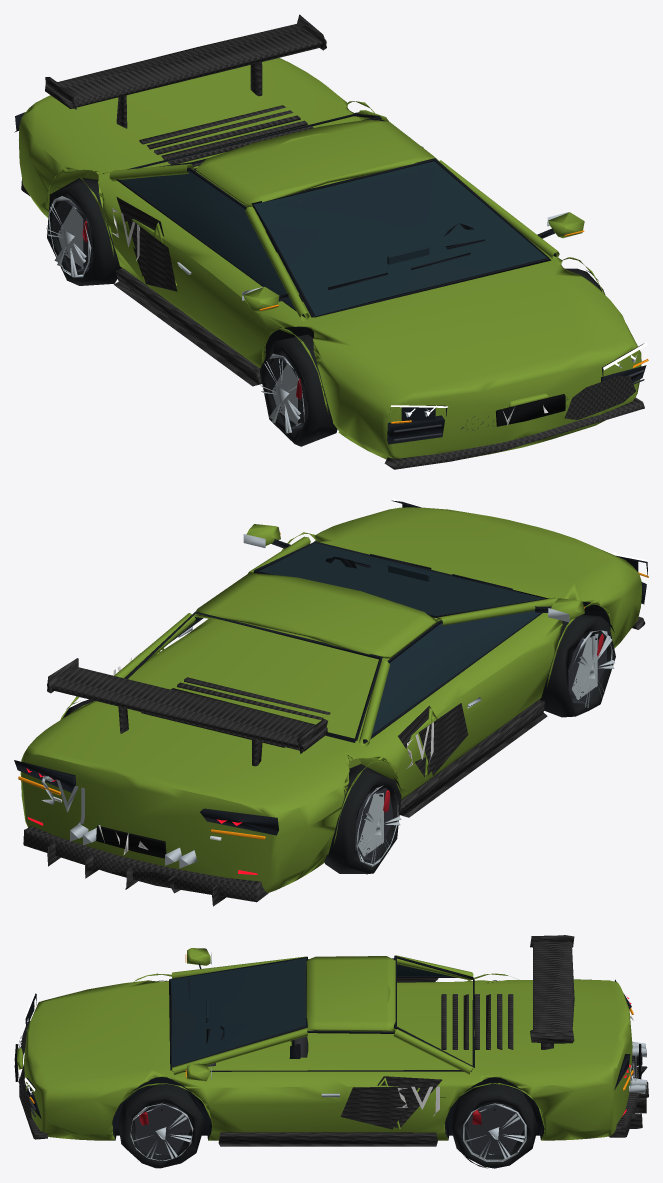
The model's file is lamborghini-far.glb.
The picture shows the model from 3 angles, top to bottom: view 1: azimuth 30°, elevation 25°; view 2: azimuth 150°, elevation 25°; view 3: azimuth 270°, elevation 25°; orthographic projection. The views are drawn at different scales.
Visible parts, largest first — view 1: chassis.001__Automotive clearcoat, chassis.001__Solar glass, chassis.001__Carbon twill, chassis.001__Satin black trim, wheel_FL.001__Tyre rubber, wheel_RL.001__Tyre rubber, wheel_RL.001__Machined aluminium, wheel_FL.001__Machined aluminium, chassis.001__Black registration plate, wheel_RL.001__Graphite alloy, wheel_FL.001__Graphite alloy; view 2: chassis.001__Automotive clearcoat, chassis.001__Carbon twill, chassis.001__Solar glass, chassis.001__Satin black trim, wheel_RL.001__Tyre rubber, wheel_FL.001__Tyre rubber, chassis.001__Machined aluminium, wheel_RL.001__Machined aluminium, wheel_FL.001__Machined aluminium, chassis.001__Black registration plate, wheel_RL.001__Graphite alloy, wheel_FL.001__Graphite alloy; view 3: chassis.001__Automotive clearcoat, chassis.001__Carbon twill, chassis.001__Solar glass, chassis.001__Satin black trim, wheel_FR.001__Tyre rubber, wheel_RR.001__Tyre rubber, wheel_RR.001__Graphite alloy, wheel_FR.001__Graphite alloy, wheel_RR.001__Machined aluminium, wheel_FR.001__Machined aluminium, chassis.001__Machined aluminium, chassis.001__White lettering.
Part boxes in pixels (box(x1,y1,x2,y2)): chassis.001__Automotive clearcoat: box(19, 58, 641, 459); chassis.001__Solar glass: box(121, 161, 546, 316); chassis.001__Carbon twill: box(21, 14, 644, 469); chassis.001__Satin black trim: box(14, 112, 646, 444); wheel_FL.001__Tyre rubber: box(259, 334, 337, 446); wheel_RL.001__Tyre rubber: box(47, 177, 121, 285); wheel_RL.001__Machined aluminium: box(46, 196, 91, 277); wheel_FL.001__Machined aluminium: box(260, 353, 304, 433); chassis.001__Black registration plate: box(496, 394, 565, 426); wheel_RL.001__Graphite alloy: box(54, 198, 92, 271); wheel_FL.001__Graphite alloy: box(268, 355, 307, 428); chassis.001__Automotive clearcoat: box(20, 507, 641, 892); chassis.001__Carbon twill: box(23, 605, 645, 906); chassis.001__Solar glass: box(189, 543, 545, 739); chassis.001__Satin black trim: box(14, 500, 647, 835); wheel_RL.001__Tyre rubber: box(324, 764, 401, 874); wheel_FL.001__Tyre rubber: box(539, 614, 615, 717); chassis.001__Machined aluminium: box(41, 534, 569, 868); wheel_RL.001__Machined aluminium: box(356, 785, 401, 866); wheel_FL.001__Machined aluminium: box(571, 630, 614, 707); chassis.001__Black registration plate: box(96, 825, 166, 858); wheel_RL.001__Graphite alloy: box(354, 788, 392, 860); wheel_FL.001__Graphite alloy: box(568, 637, 606, 703); chassis.001__Automotive clearcoat: box(17, 948, 632, 1140); chassis.001__Carbon twill: box(19, 935, 648, 1146); chassis.001__Solar glass: box(170, 958, 448, 1066); chassis.001__Satin black trim: box(25, 955, 631, 1118); wheel_FR.001__Tyre rubber: box(118, 1082, 205, 1168); wheel_RR.001__Tyre rubber: box(451, 1082, 537, 1168); wheel_RR.001__Graphite alloy: box(465, 1103, 524, 1156); wheel_FR.001__Graphite alloy: box(134, 1103, 191, 1155); wheel_RR.001__Machined aluminium: box(463, 1103, 526, 1161); wheel_FR.001__Machined aluminium: box(130, 1103, 193, 1160); chassis.001__Machined aluminium: box(27, 952, 647, 1097); chassis.001__White lettering: box(14, 978, 642, 1116).
Bounding box in the file's own units: 2.41 × 1.17 × 5.15.
Materials: 16 (1 with a texture image).
